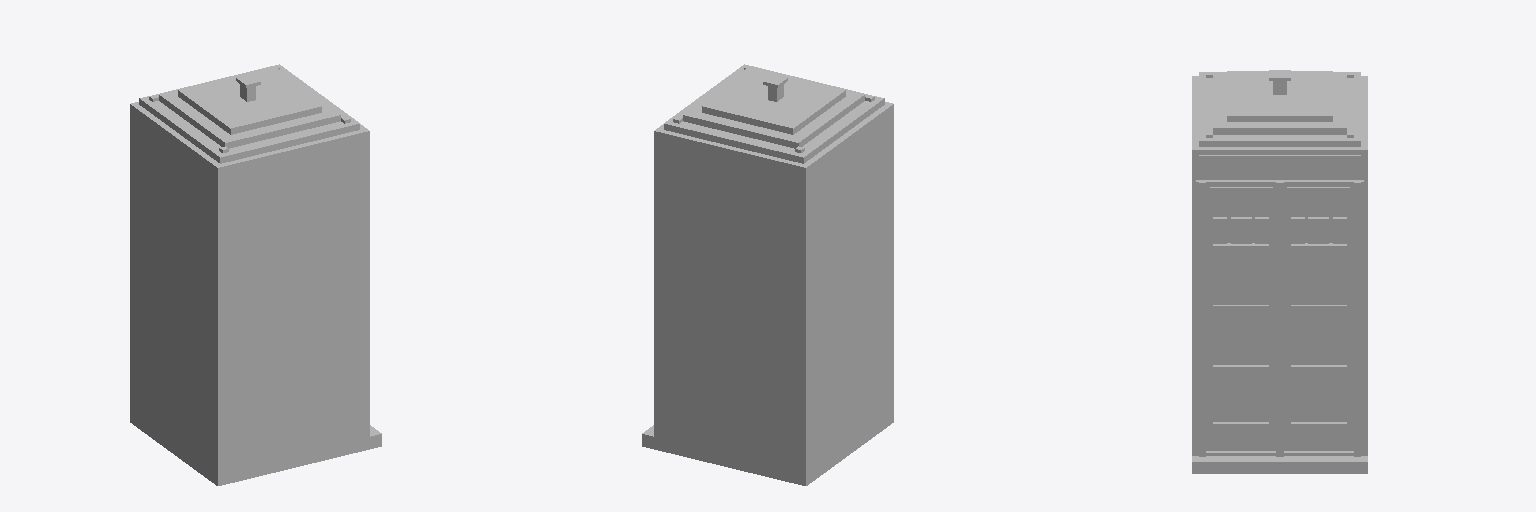
The model's file is phone box obj.obj.
3 views of the same model, side by side, from view 1: azimuth 30°, elevation 25°; view 2: azimuth 150°, elevation 25°; view 3: azimuth 270°, elevation 25° (orthographic).
Visible parts, largest first — view 1: object 1; view 2: object 1; view 3: object 1.
Part boxes in pixels (x1,y1,x2,y2): object 1: (130,64,381,485); object 1: (642,64,893,485); object 1: (1192,70,1367,473).
Bounding box in the file's own units: 5.4 × 11.2 × 5.